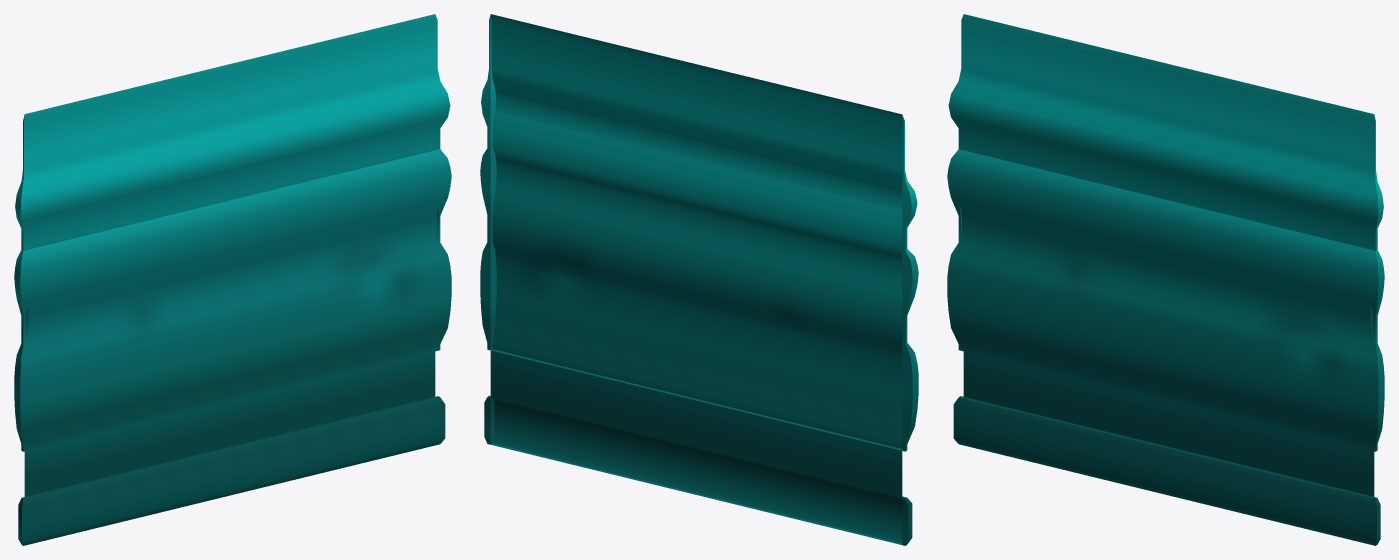
The model's file is med2_8.fbx.
The picture shows the model from 3 angles, left to right: view 1: azimuth 30°, elevation 25°; view 2: azimuth 150°, elevation 25°; view 3: azimuth 330°, elevation 25°; orthographic projection.
Parts seen in each view (by area): view 1: med2_8_mesh, med2_8_cornerLH, med2_8_cornerRH; view 2: med2_8_mesh, med2_8_cornerRH, med2_8_cornerLH; view 3: med2_8_mesh, med2_8_cornerRH, med2_8_cornerLH.
Boxes of the visible parts, left/top/right/bottom form: med2_8_mesh: left=24, top=14, right=441, bottom=544; med2_8_cornerLH: left=14, top=115, right=30, bottom=545; med2_8_cornerRH: left=435, top=15, right=451, bottom=444; med2_8_mesh: left=490, top=14, right=903, bottom=544; med2_8_cornerRH: left=480, top=15, right=496, bottom=444; med2_8_cornerLH: left=902, top=115, right=918, bottom=545; med2_8_mesh: left=957, top=14, right=1374, bottom=544; med2_8_cornerRH: left=1368, top=115, right=1384, bottom=545; med2_8_cornerLH: left=947, top=15, right=963, bottom=444.
Bounding box in the file's own units: 269 × 256 × 6.5.
